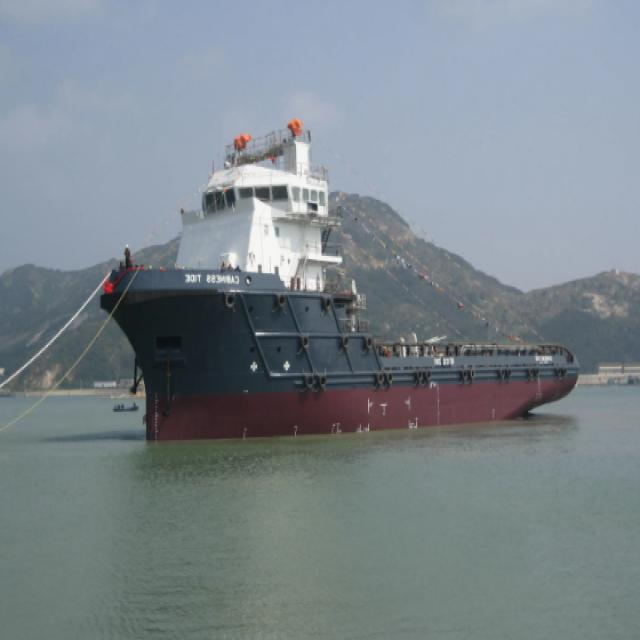cargoship: (108, 117, 576, 441)
